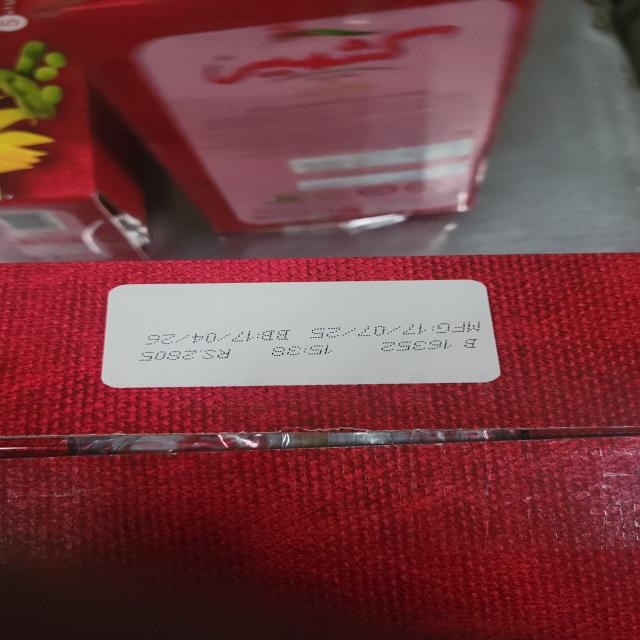BB: (145, 327, 294, 344)
Batch: (378, 340, 482, 354)
MFG: (307, 320, 487, 339)
RS: (139, 350, 231, 361)
TimeStamp: (270, 344, 340, 359)
